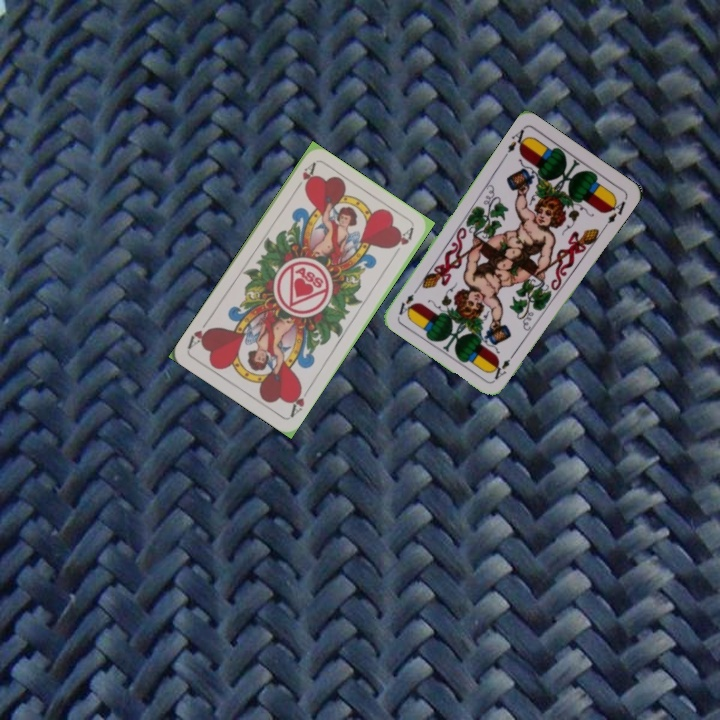EA: (500, 124, 531, 160), (490, 347, 519, 382)
HA: (290, 159, 318, 195), (286, 383, 313, 420)
